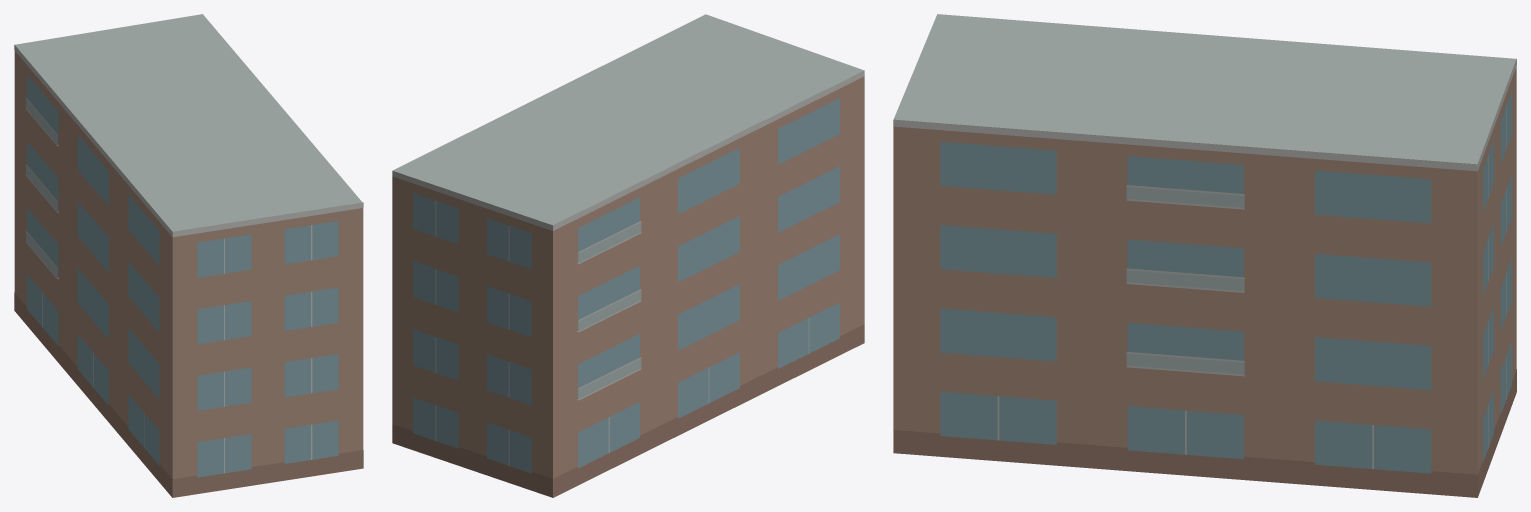
The model's file is survey-upis-32536516.glb.
3 views of the same model, side by side, from view 1: azimuth 30°, elevation 25°; view 2: azimuth 150°, elevation 25°; view 3: azimuth 270°, elevation 25° (orthographic). The views are drawn at different scales.
Parts seen in each view (by area): view 1: survey-upis-32536516.tmp; view 2: survey-upis-32536516.tmp; view 3: survey-upis-32536516.tmp.
Boxes of the visible parts, box(x1,y1,x2,y2) form: survey-upis-32536516.tmp: box(14, 14, 363, 497); survey-upis-32536516.tmp: box(392, 14, 864, 497); survey-upis-32536516.tmp: box(893, 14, 1516, 497).
Bounding box in the file's own units: 11.32 × 11.7 × 19.83.
